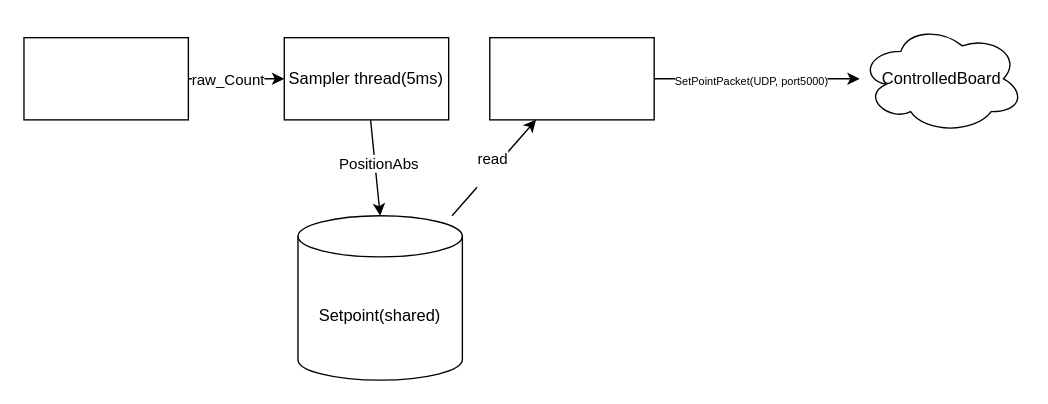
Image size: 1048x404. Some labels were removed from this diagram. Here are the shapes that lost their labels. From the top down, the centre of each, then its label:
the point at 105,78: Encoder Driver(TIM 1)
the point at 571,78: UDP TX Thread(10ms)
